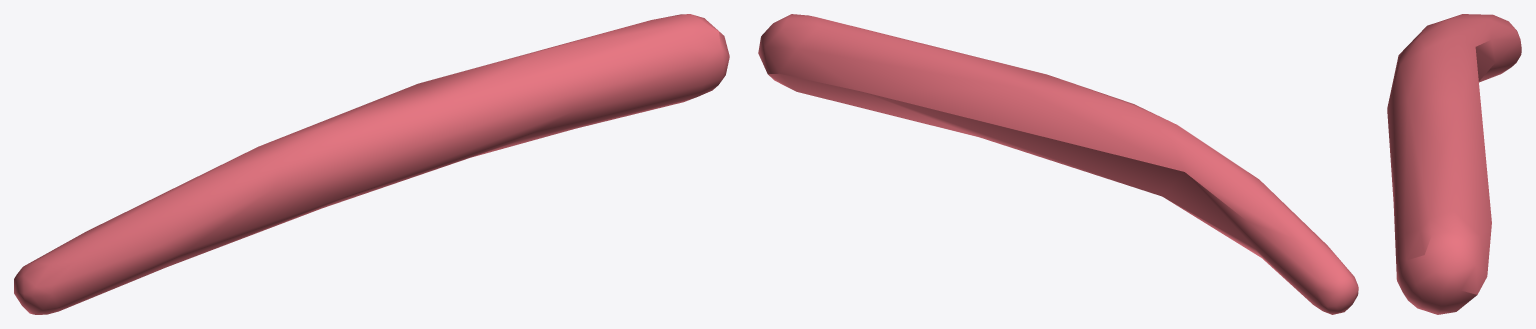
File: fma68928_fj3028.glb
3 renders of one model, left to right at view 1: azimuth 30°, elevation 25°; view 2: azimuth 150°, elevation 25°; view 3: azimuth 270°, elevation 25°, orthographic. The views are drawn at different scales.
Parts seen in each view (by area): view 1: FMA68928_FJ3028; view 2: FMA68928_FJ3028; view 3: FMA68928_FJ3028.
Boxes of the visible parts, box(x1,y1,x2,y2) form: FMA68928_FJ3028: box(14, 14, 729, 314); FMA68928_FJ3028: box(758, 14, 1358, 314); FMA68928_FJ3028: box(1387, 14, 1521, 314).
Bounding box in the file's own units: 0.0375 × 0.00854 × 0.00593.
